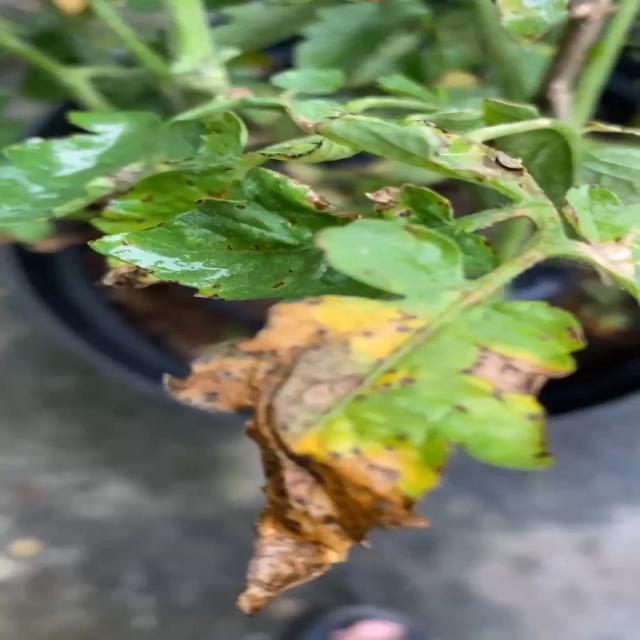Tomato_Late_Blight: (151, 278, 574, 624)
